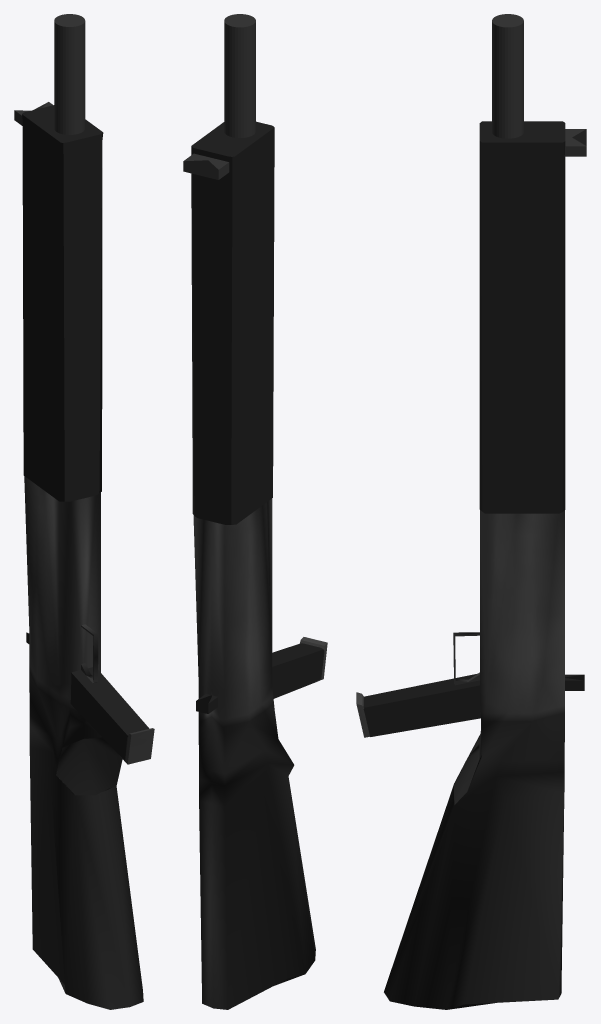
Rendered from AA12_NoMagazine.fbx.
The picture shows the model from 3 angles, left to right: view 1: azimuth 30°, elevation 25°; view 2: azimuth 150°, elevation 25°; view 3: azimuth 270°, elevation 25°; orthographic projection. The views are drawn at different scales.
Parts seen in each view (by area): view 1: node_eb3a674a_6b93_4f5c_acdd_cc4217393103_mesh0; view 2: node_eb3a674a_6b93_4f5c_acdd_cc4217393103_mesh0; view 3: node_eb3a674a_6b93_4f5c_acdd_cc4217393103_mesh0.
Boxes of the visible parts, bbox=[...] form: node_eb3a674a_6b93_4f5c_acdd_cc4217393103_mesh0: bbox=[14, 14, 154, 1009]; node_eb3a674a_6b93_4f5c_acdd_cc4217393103_mesh0: bbox=[183, 14, 327, 1009]; node_eb3a674a_6b93_4f5c_acdd_cc4217393103_mesh0: bbox=[356, 14, 586, 1009].
Size of the model in its own units: 0.047 by 0.6248 by 0.134.
